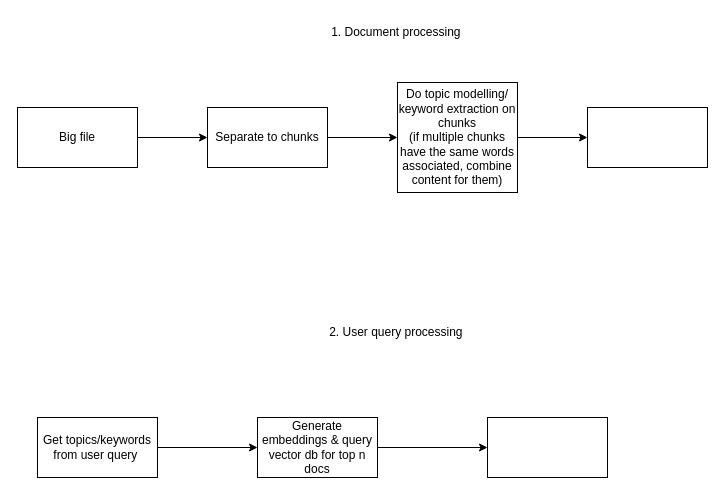
Image size: 725x495. Some labels were removed from this diagram. Each missing label, with the centre of its shape:
Send query & vector db results to llm to generate response: pixel 547 447
Store keyword embeddings & content in vector db: pixel 647 137
